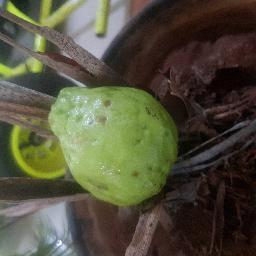Good_guava: (43, 81, 179, 204)
